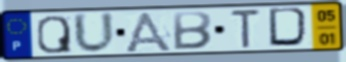A: (121, 10, 175, 53)
B: (171, 10, 214, 51)
D: (267, 6, 313, 49)
Q: (35, 14, 74, 55)
T: (229, 8, 263, 51)
U: (71, 11, 118, 55)
